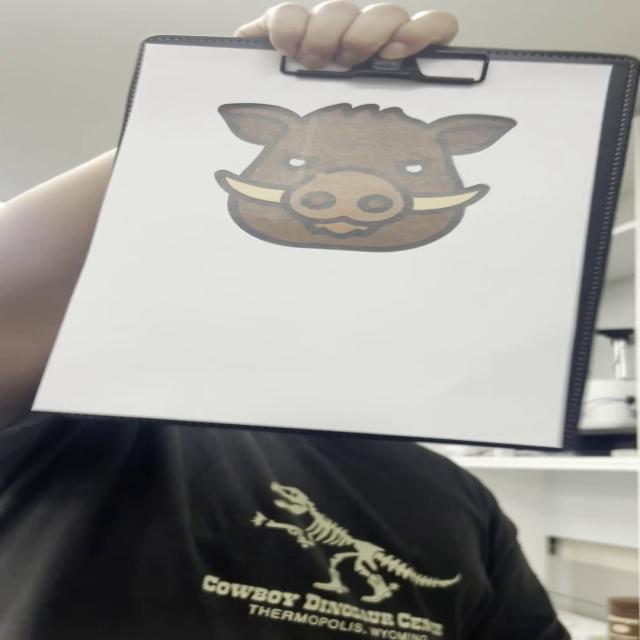animal: (213, 93, 530, 254)
